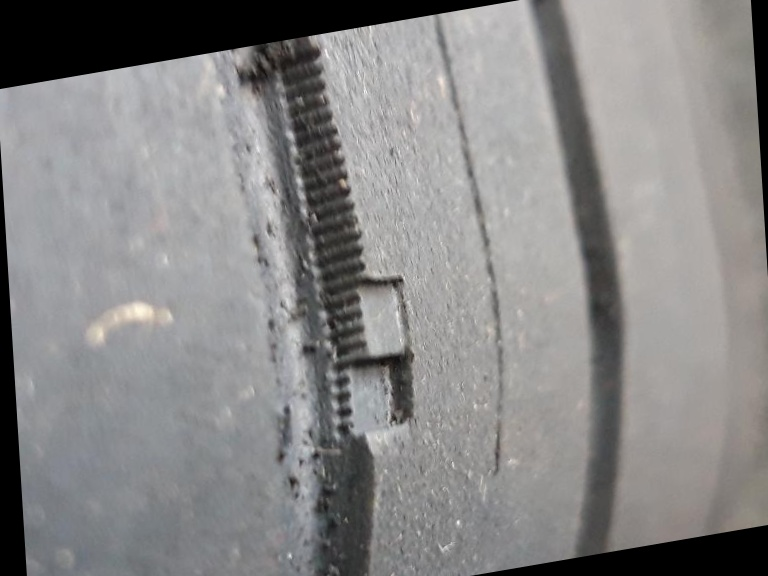temoin:25: (307, 250, 434, 465)
